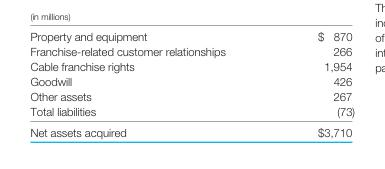table: (29, 28, 354, 138)
table column: (29, 28, 270, 138), (270, 28, 354, 138)
table row: (29, 103, 354, 121), (29, 121, 354, 138), (29, 42, 354, 58), (29, 58, 354, 73), (29, 73, 354, 88), (29, 88, 354, 103), (29, 28, 354, 42)
